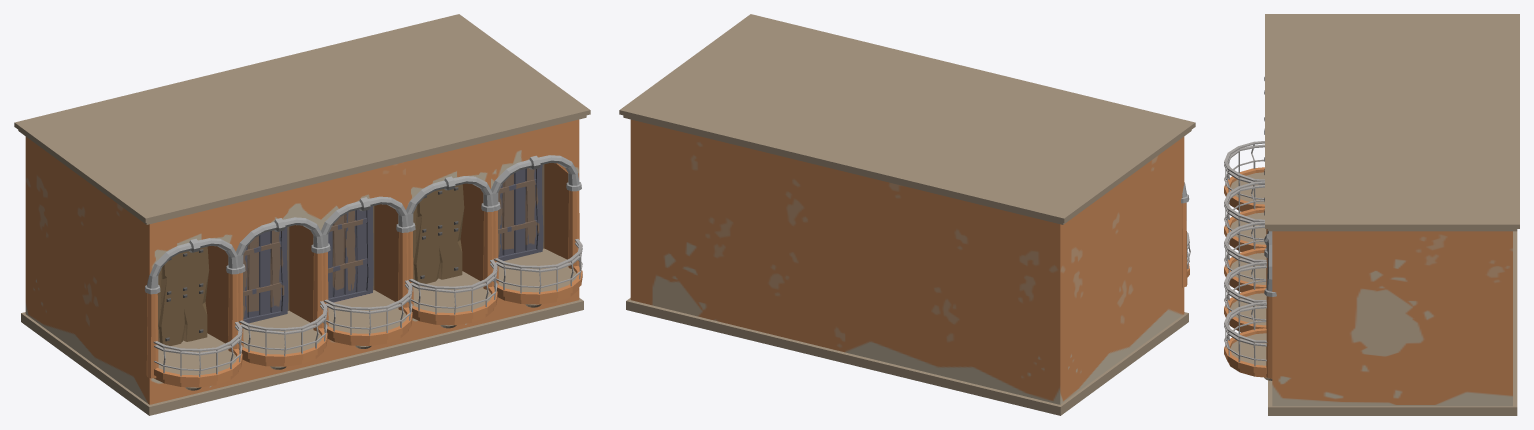
The model's file is SM_Bld_Cuba_Room_Long_05.glb.
The picture shows the model from 3 angles, left to right: view 1: azimuth 30°, elevation 25°; view 2: azimuth 150°, elevation 25°; view 3: azimuth 270°, elevation 25°; orthographic projection. The views are drawn at different scales.
Parts seen in each view (by area): view 1: SM_Bld_Cuba_Room_Long_05_part00; view 2: SM_Bld_Cuba_Room_Long_05_part00; view 3: SM_Bld_Cuba_Room_Long_05_part00.
Part boxes in pixels (x1,y1,x2,y2): SM_Bld_Cuba_Room_Long_05_part00: (14,14,590,415); SM_Bld_Cuba_Room_Long_05_part00: (619,14,1195,415); SM_Bld_Cuba_Room_Long_05_part00: (1224,14,1519,415).
Bounding box in the file's own units: 7.76 × 3.33 × 4.61.
1 material, 1 textured.
